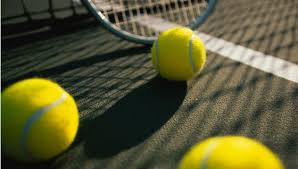tennis_ball: (1, 77, 80, 164), (178, 134, 287, 169), (150, 26, 207, 83)
